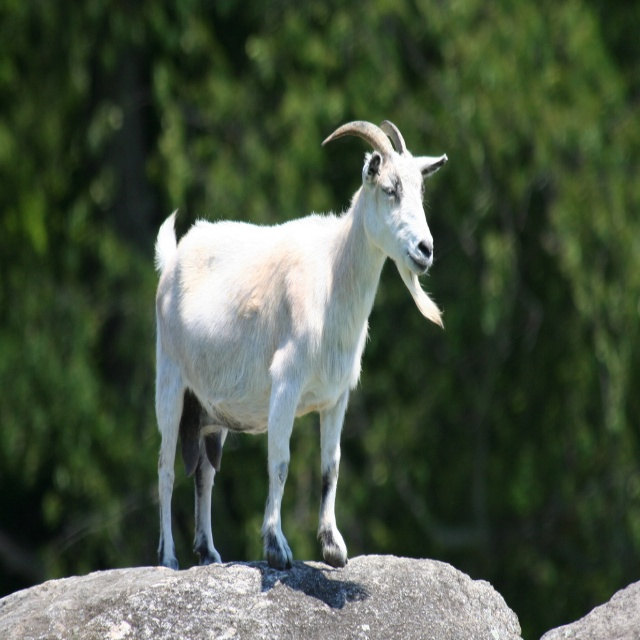Goat: (156, 120, 444, 570)
